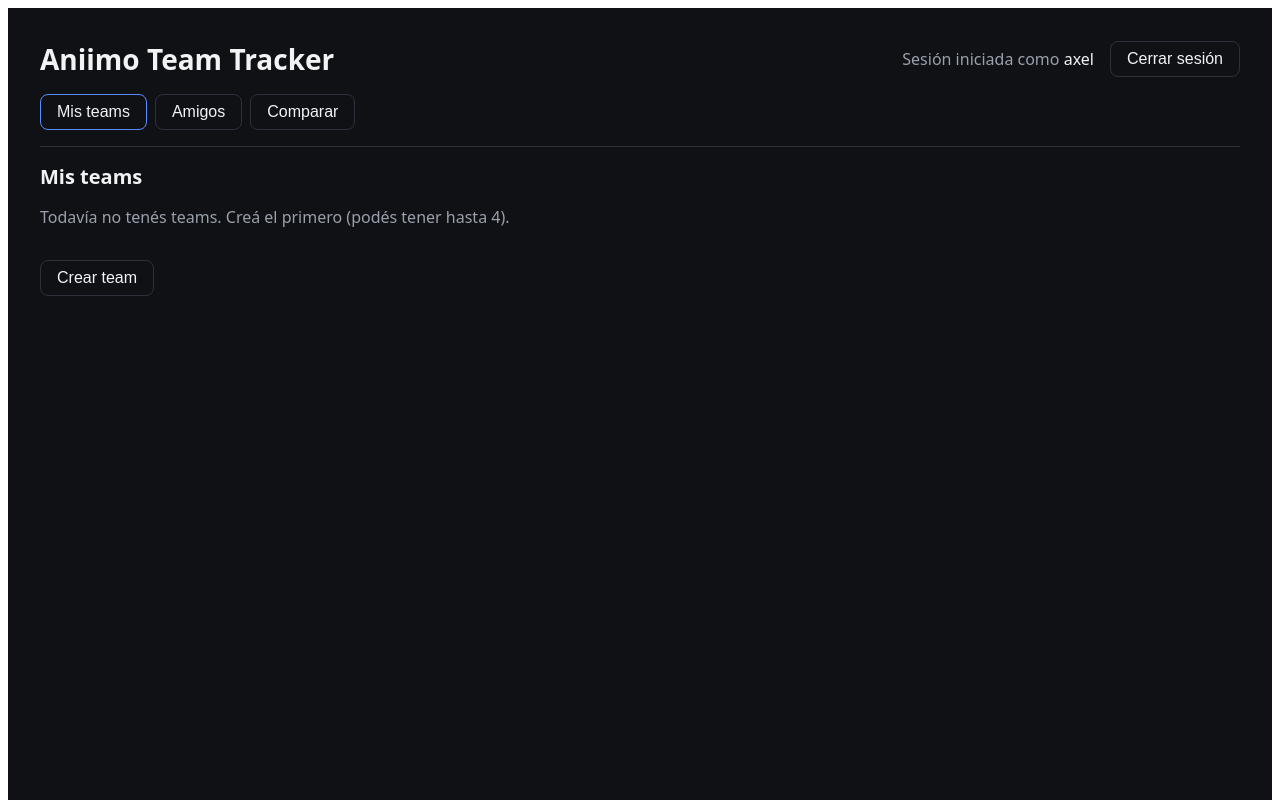
crear team › propone Team 1 cuando no hay teams
Check: the heading "Mis teams" is shown, box [40,163,142,190]
Click the button "Crear team". click: (97, 278)
box: [40,260,154,296]
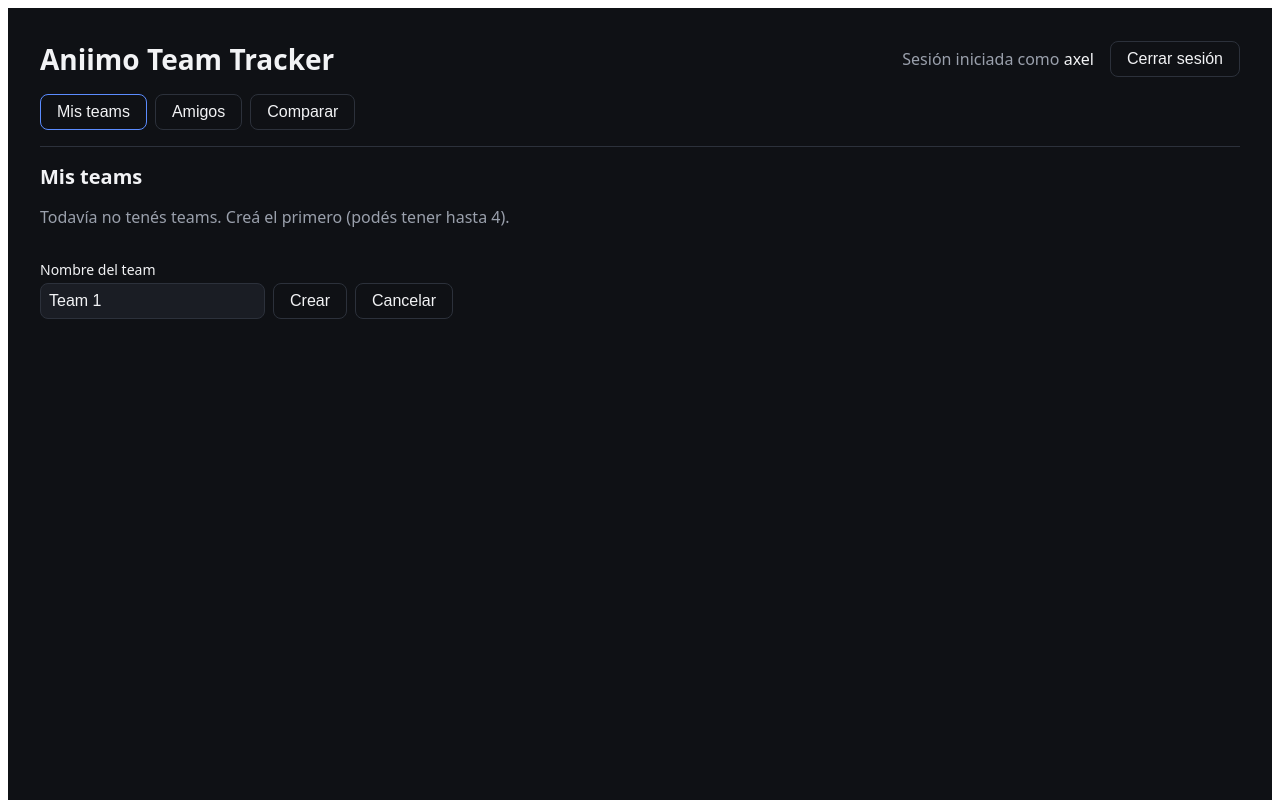
Check: the field labelled "Nombre del team" holds "Team 1", box [40,283,265,319]
